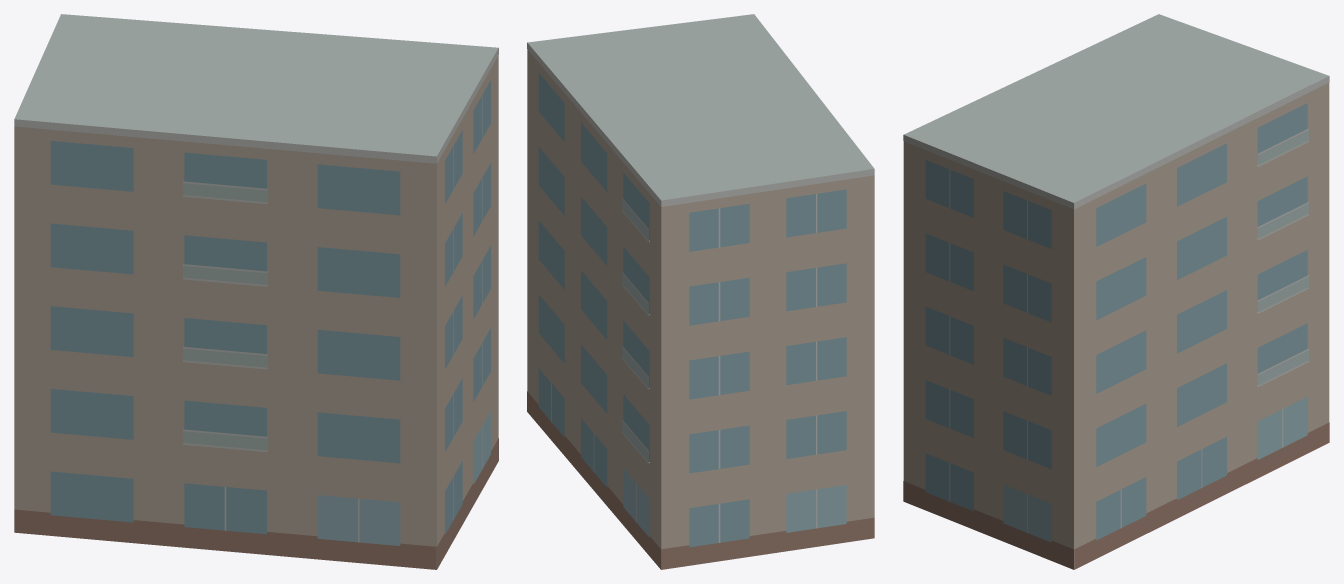
The model's file is survey-upis-32669078.glb.
The picture shows the model from 3 angles, left to right: view 1: azimuth 30°, elevation 25°; view 2: azimuth 150°, elevation 25°; view 3: azimuth 270°, elevation 25°; orthographic projection. The views are drawn at different scales.
Visible parts, largest first — view 1: survey-upis-32669078.tmp; view 2: survey-upis-32669078.tmp; view 3: survey-upis-32669078.tmp.
Boxes of the visible parts, x1=… form: survey-upis-32669078.tmp: x1=14, y1=14, x2=498, y2=569; survey-upis-32669078.tmp: x1=527, y1=14, x2=874, y2=569; survey-upis-32669078.tmp: x1=903, y1=14, x2=1329, y2=569.
Size of the model in its own units: 15.43 by 13.95 by 14.69.
